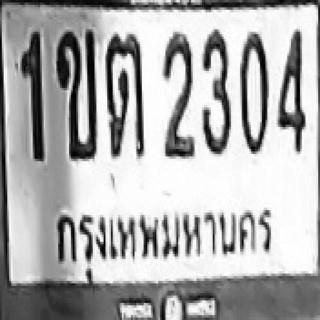A02: (56, 29, 96, 159)
A21: (104, 33, 144, 158)
N00: (239, 29, 268, 154)
N01: (20, 29, 44, 161)
N02: (161, 31, 194, 158)
N03: (200, 28, 231, 155)
N04: (276, 28, 306, 153)
P04: (49, 196, 277, 271)
